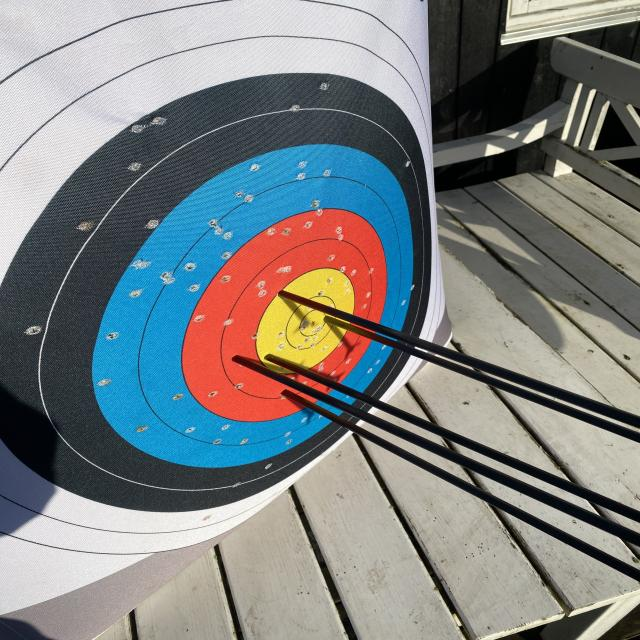Arrow_Red: (264, 380, 304, 404), (224, 352, 262, 376)
Arrow_Yellow: (266, 277, 300, 310), (262, 344, 298, 372), (316, 310, 344, 335)
